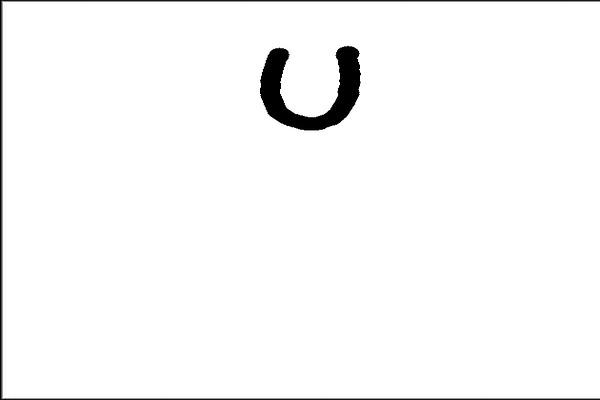U: (249, 36, 369, 133)
